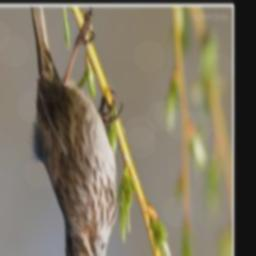Sparrow: (31, 6, 124, 256)
